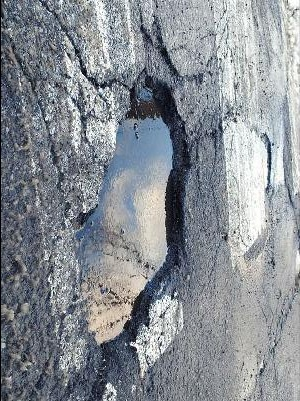pothole: (72, 71, 194, 351), (260, 129, 275, 192)
